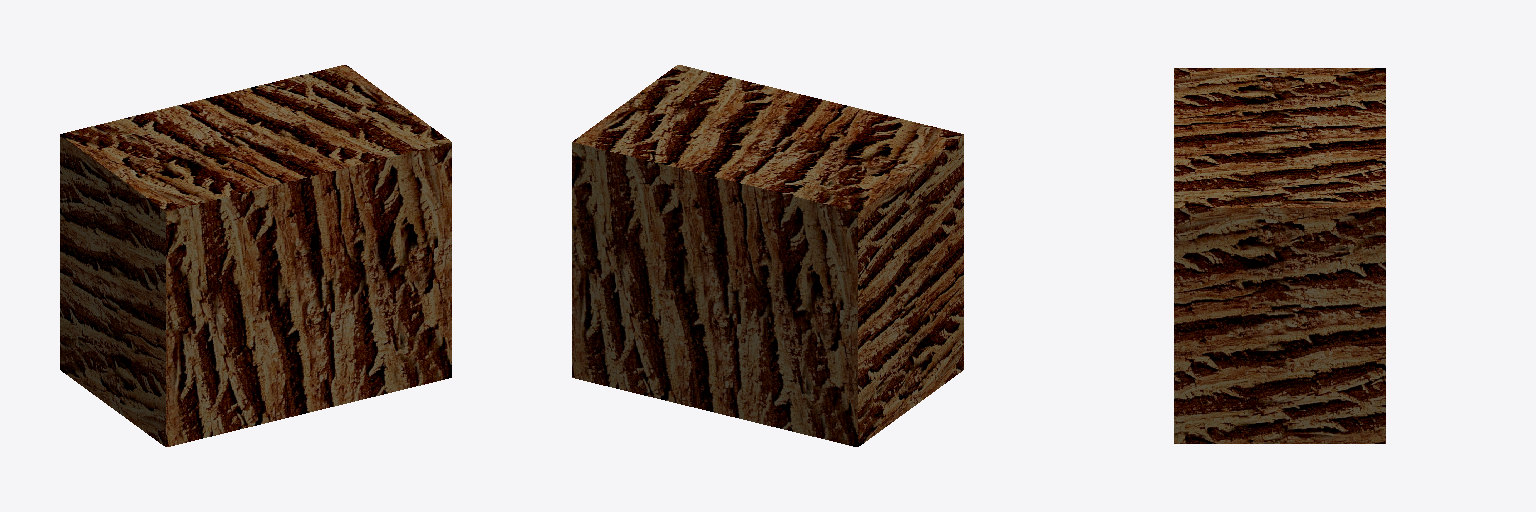
3 renders of one model, left to right at view 1: azimuth 30°, elevation 25°; view 2: azimuth 150°, elevation 25°; view 3: azimuth 270°, elevation 25°, orthographic.
Visible parts, largest first — view 1: Box002; view 2: Box002; view 3: Box002.
Part boxes in pixels (x1,y1,x2,y2): Box002: (60,65,451,446); Box002: (572,65,963,446); Box002: (1174,68,1385,443).
Bounding box in the file's own units: 40.49 × 31.87 × 26.03.
1 materials, 1 textured.